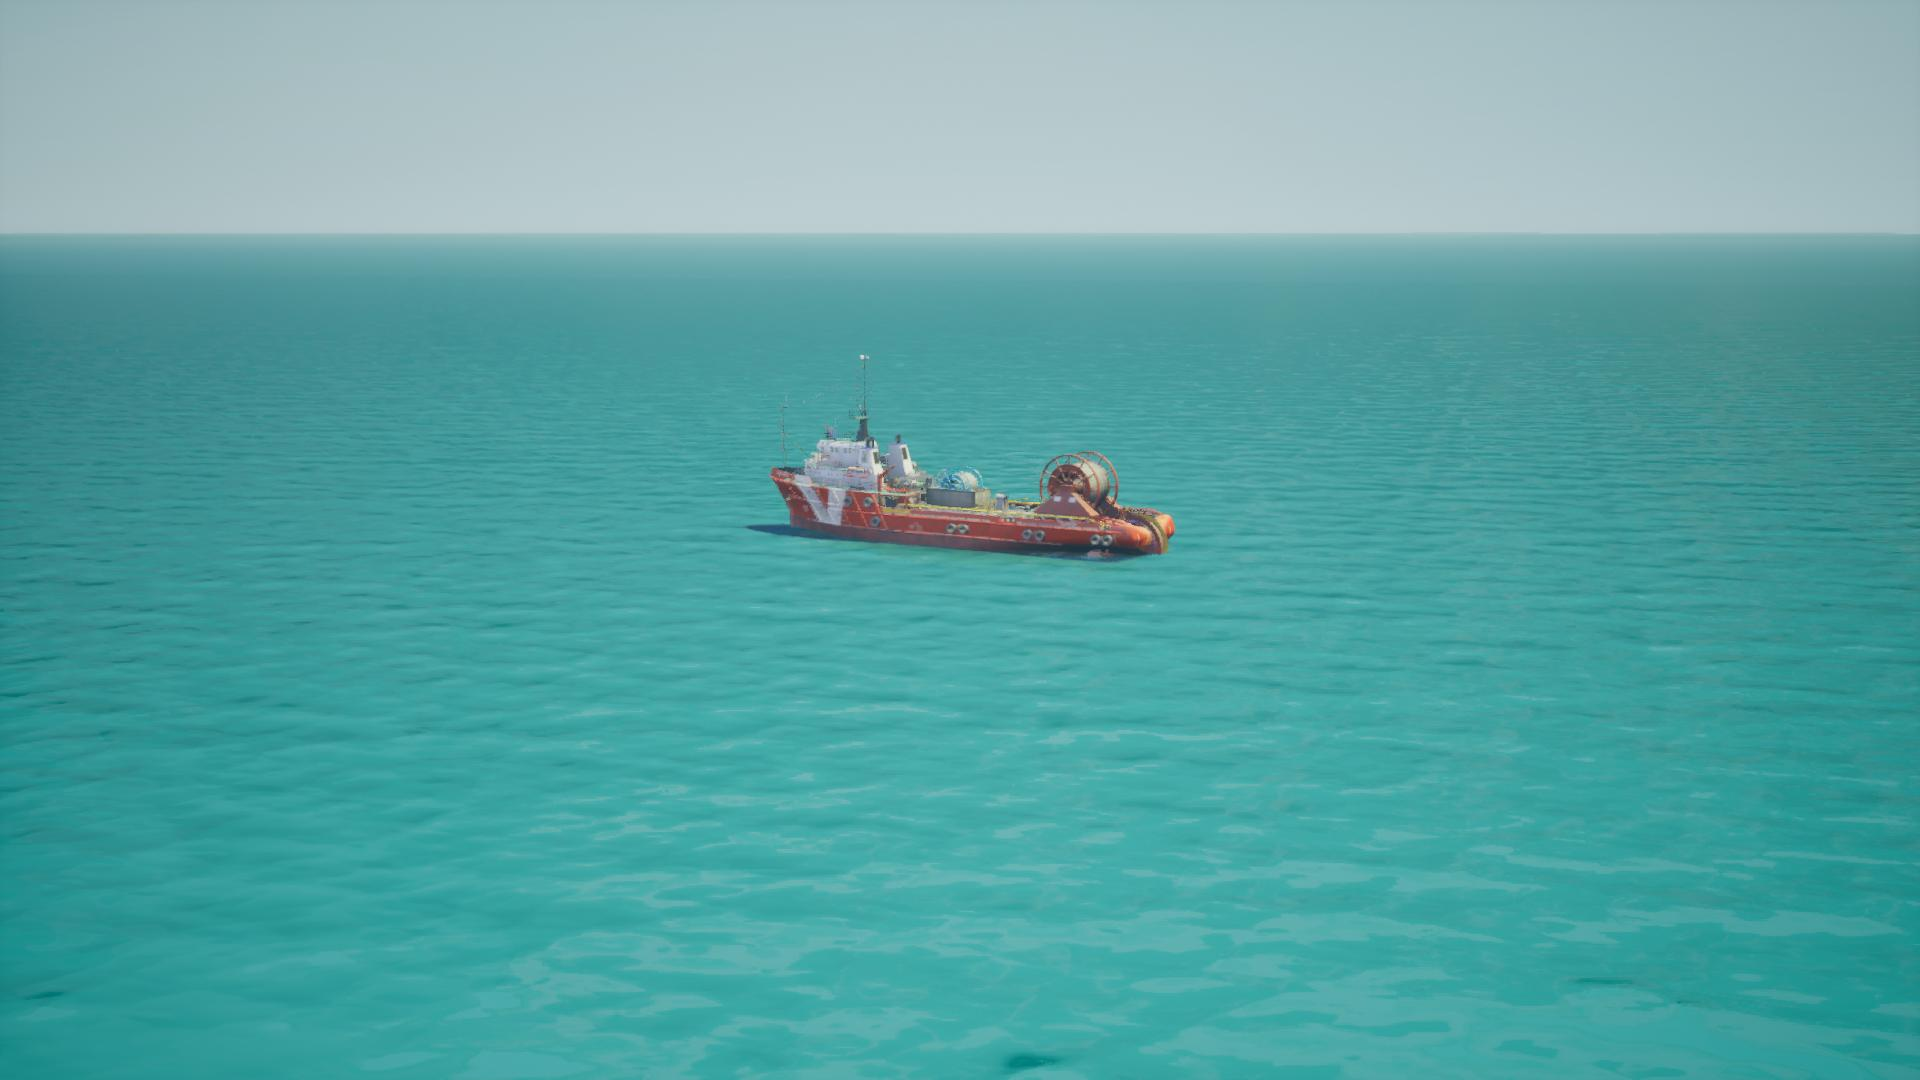Tug Boat: (752, 356, 1176, 570)
